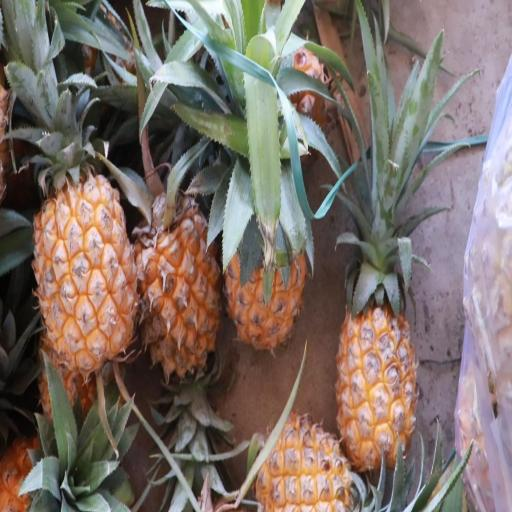Pineapple - v8 v1: (28, 151, 140, 383), (332, 237, 418, 479), (131, 183, 226, 385), (220, 156, 306, 358), (250, 409, 362, 512)
